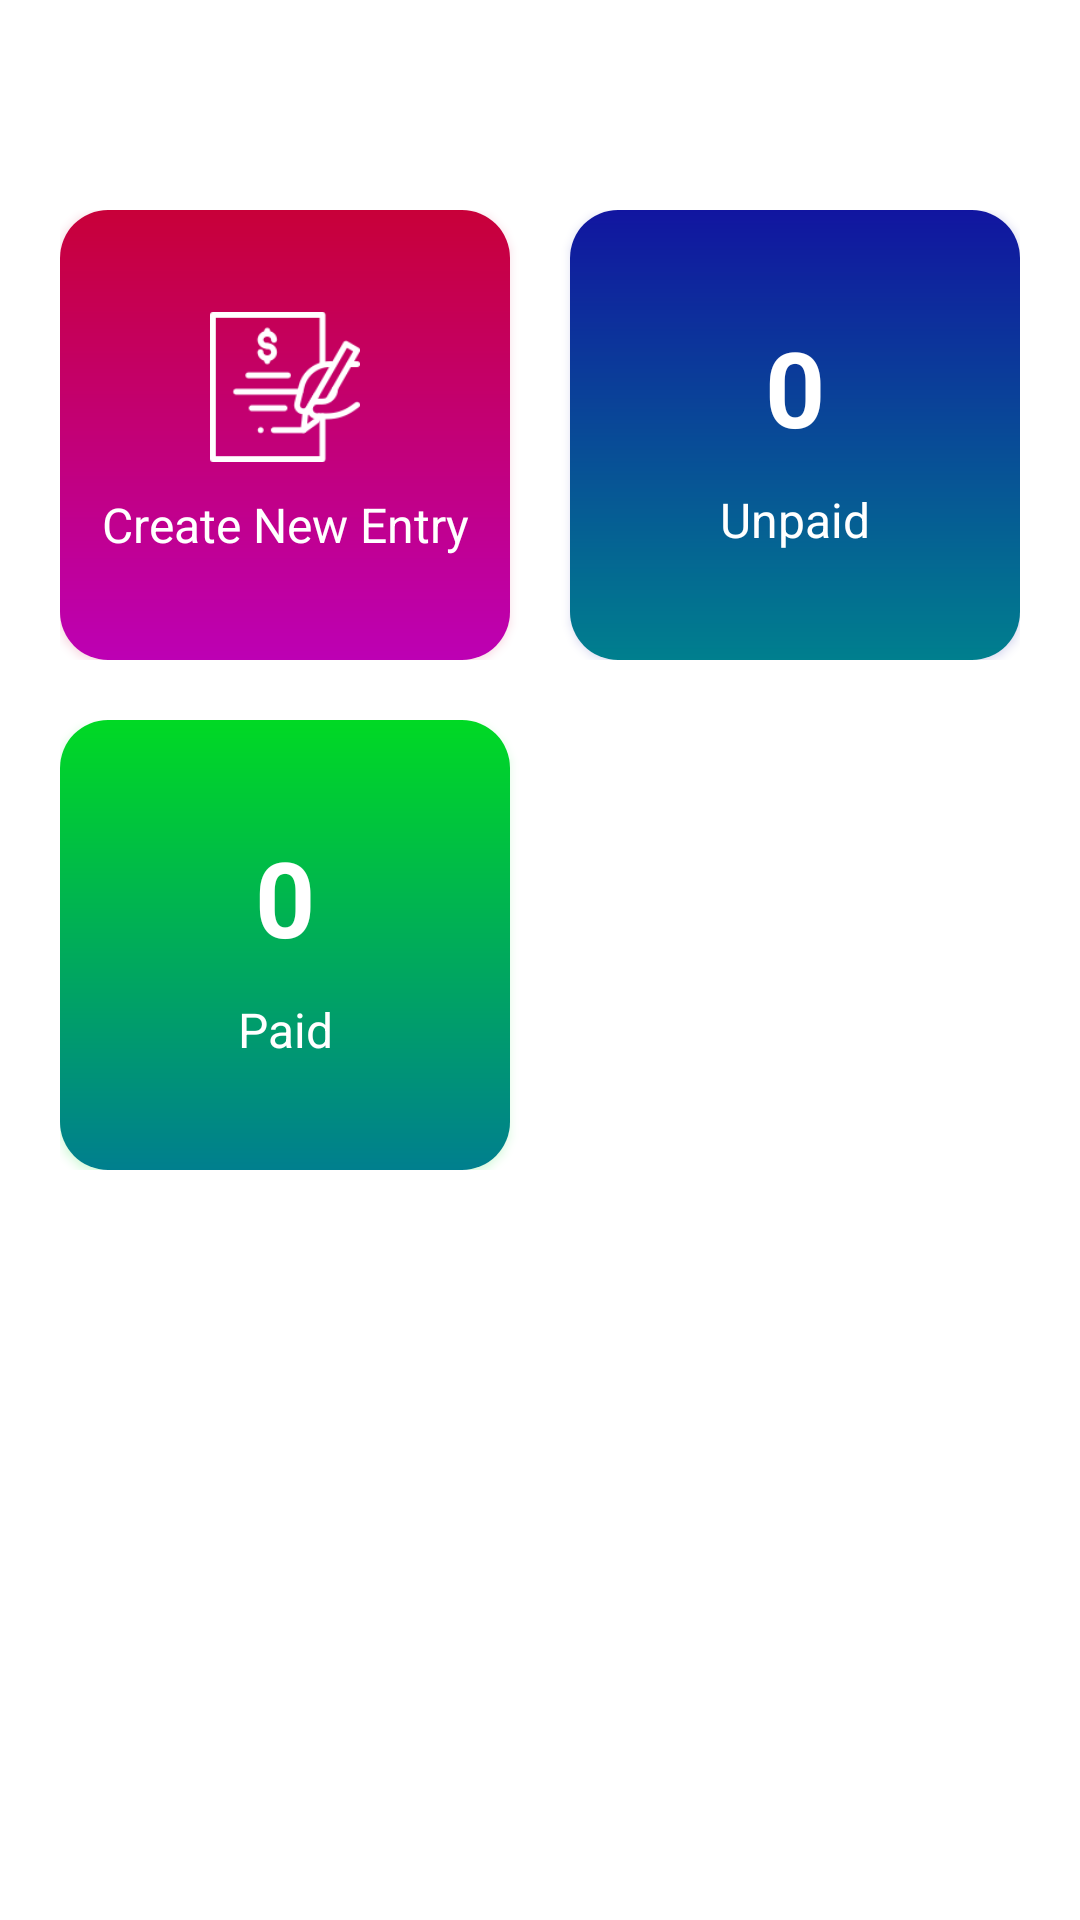

Screen size 1080x1920. Icon name, then its center in pixels as (x=x, y=y):
loan: (x=285, y=387)
